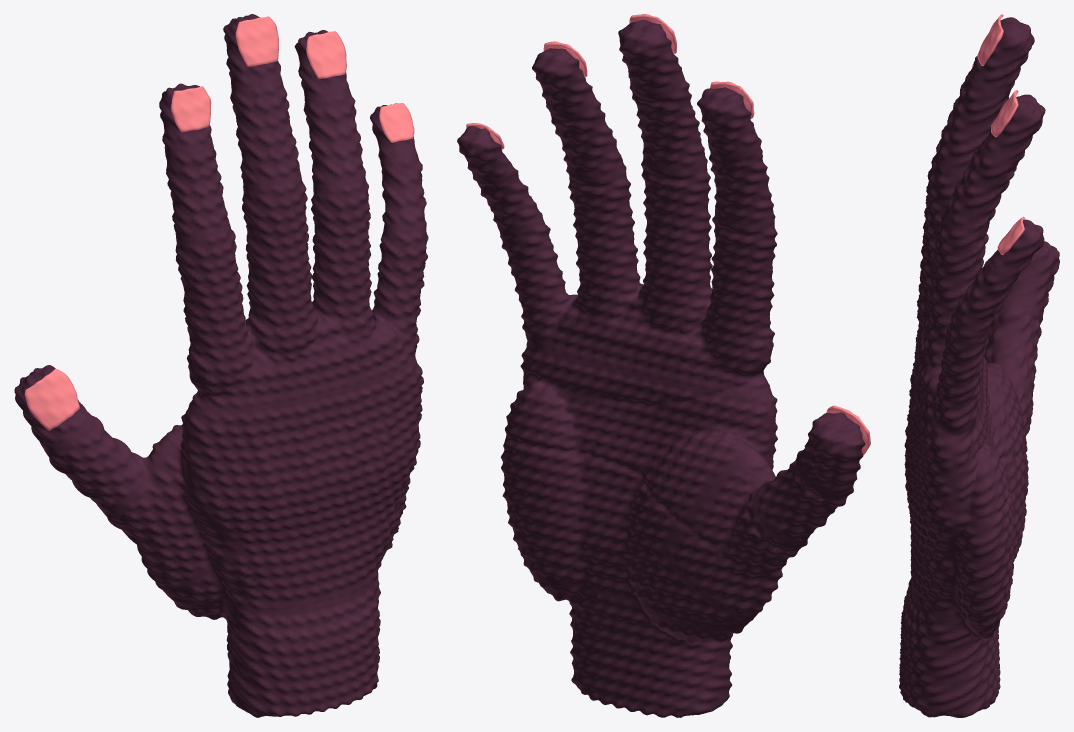
The model's file is family-03.glb.
3 views of the same model, side by side, from view 1: azimuth 30°, elevation 25°; view 2: azimuth 150°, elevation 25°; view 3: azimuth 270°, elevation 25° (orthographic). The views are drawn at different scales.
Visible parts, largest first — view 1: knuckles__knuckles_sculpt, back_of_hand__back_of_hand_sculpt, middle_sections__middle_sections_sculpt, wrist__wrist_sculpt, fingertips__fingertips_sculpt, palm__palm_sculpt, nails__thumb_claw, nails__middle_claw, nails__ring_claw, nails__index_claw, nails__pinky_claw; view 2: knuckles__knuckles_sculpt, palm__palm_sculpt, middle_sections__middle_sections_sculpt, wrist__wrist_sculpt, fingertips__fingertips_sculpt; view 3: palm__palm_sculpt, knuckles__knuckles_sculpt, middle_sections__middle_sections_sculpt, wrist__wrist_sculpt, back_of_hand__back_of_hand_sculpt, fingertips__fingertips_sculpt, nails__middle_claw, nails__ring_claw, nails__pinky_claw.
Boxes of the visible parts, left/top/right/bottom form: knuckles__knuckles_sculpt: left=102, top=174, right=428, bottom=593; back_of_hand__back_of_hand_sculpt: left=185, top=356, right=423, bottom=611; middle_sections__middle_sections_sculpt: left=44, top=79, right=426, bottom=512; wrist__wrist_sculpt: left=174, top=561, right=381, bottom=717; fingertips__fingertips_sculpt: left=14, top=14, right=417, bottom=451; palm__palm_sculpt: left=165, top=401, right=410, bottom=604; nails__thumb_claw: left=24, top=368, right=80, bottom=430; nails__middle_claw: left=235, top=16, right=278, bottom=66; nails__ring_claw: left=306, top=31, right=346, bottom=79; nails__index_claw: left=171, top=86, right=211, bottom=132; nails__pinky_claw: left=379, top=103, right=414, bottom=142; knuckles__knuckles_sculpt: left=497, top=153, right=807, bottom=619; palm__palm_sculpt: left=500, top=340, right=772, bottom=629; middle_sections__middle_sections_sculpt: left=472, top=74, right=853, bottom=545; wrist__wrist_sculpt: left=532, top=575, right=744, bottom=717; fingertips__fingertips_sculpt: left=457, top=20, right=865, bottom=494; palm__palm_sculpt: left=952, top=356, right=1026, bottom=629; knuckles__knuckles_sculpt: left=914, top=155, right=1033, bottom=500; middle_sections__middle_sections_sculpt: left=936, top=69, right=1042, bottom=393; wrist__wrist_sculpt: left=899, top=579, right=1000, bottom=717; back_of_hand__back_of_hand_sculpt: left=904, top=357, right=954, bottom=617; fingertips__fingertips_sculpt: left=971, top=17, right=1059, bottom=314; nails__middle_claw: left=977, top=14, right=1003, bottom=65; nails__ring_claw: left=991, top=90, right=1018, bottom=137; nails__pinky_claw: left=997, top=216, right=1025, bottom=254.
Bounding box in the file's own units: 0.1321 × 0.2178 × 0.0483.
2 materials, 1 textured.
